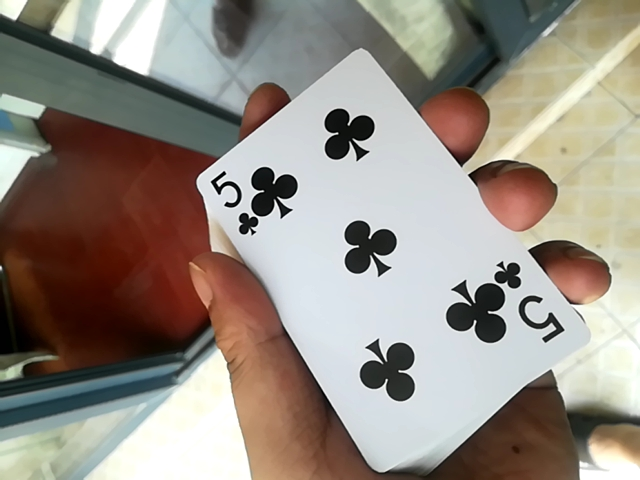mh 5: (185, 17, 580, 473)
